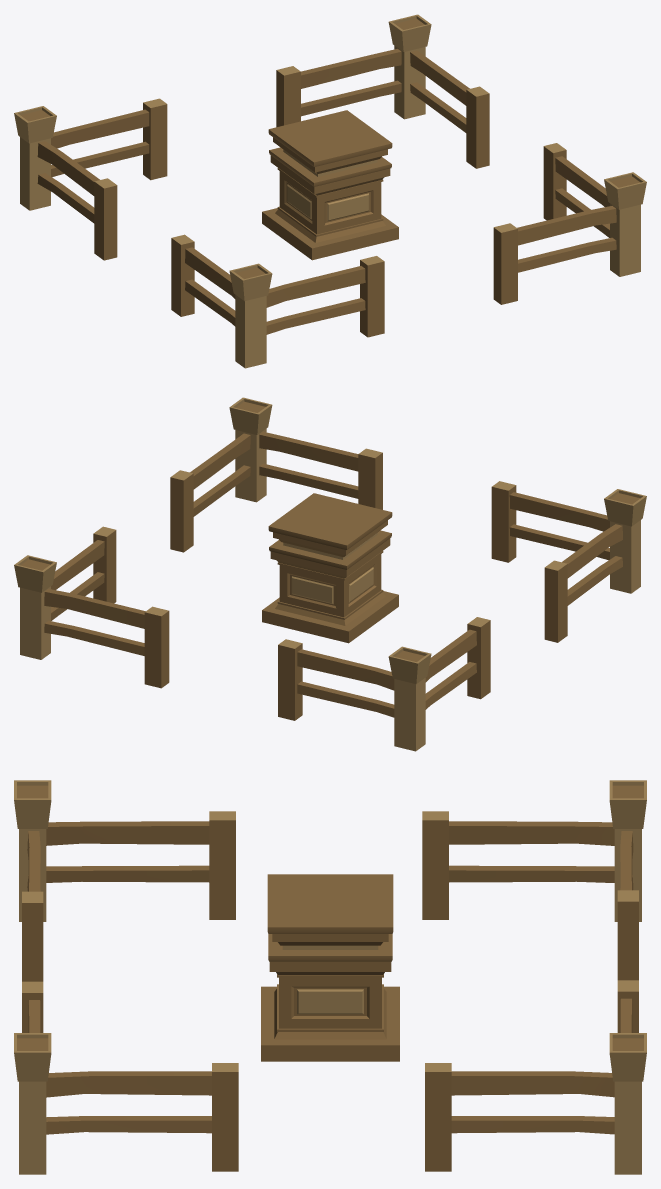
The model's file is Town Center.glb.
3 views of the same model, one above another, from view 1: azimuth 30°, elevation 25°; view 2: azimuth 150°, elevation 25°; view 3: azimuth 270°, elevation 25° (orthographic). The views are drawn at different scales.
Parts seen in each view (by area): view 1: Town Center; view 2: Town Center; view 3: Town Center.
Boxes of the visible parts, <box> form: Town Center: <box>14,14,646,368</box>; Town Center: <box>14,397,646,751</box>; Town Center: <box>14,780,646,1174</box>.
Bounding box in the file's own units: 1.26 × 0.3033 × 1.24.
